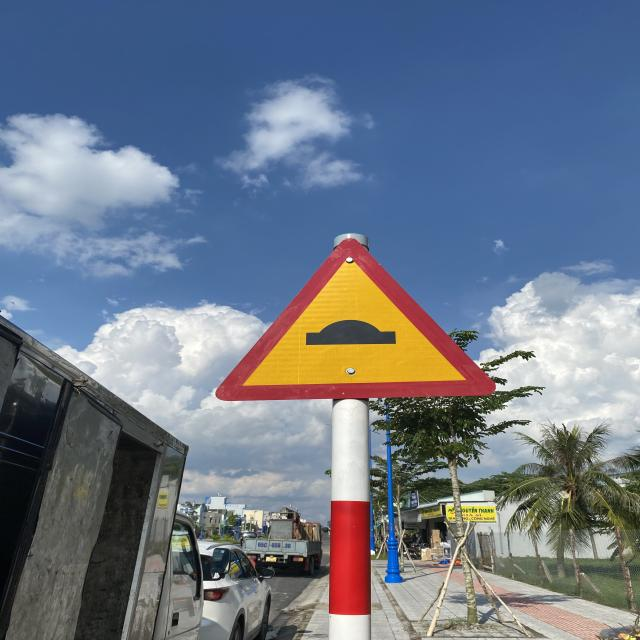Duong_Cong_Ben_Phai: (212, 237, 496, 399)
